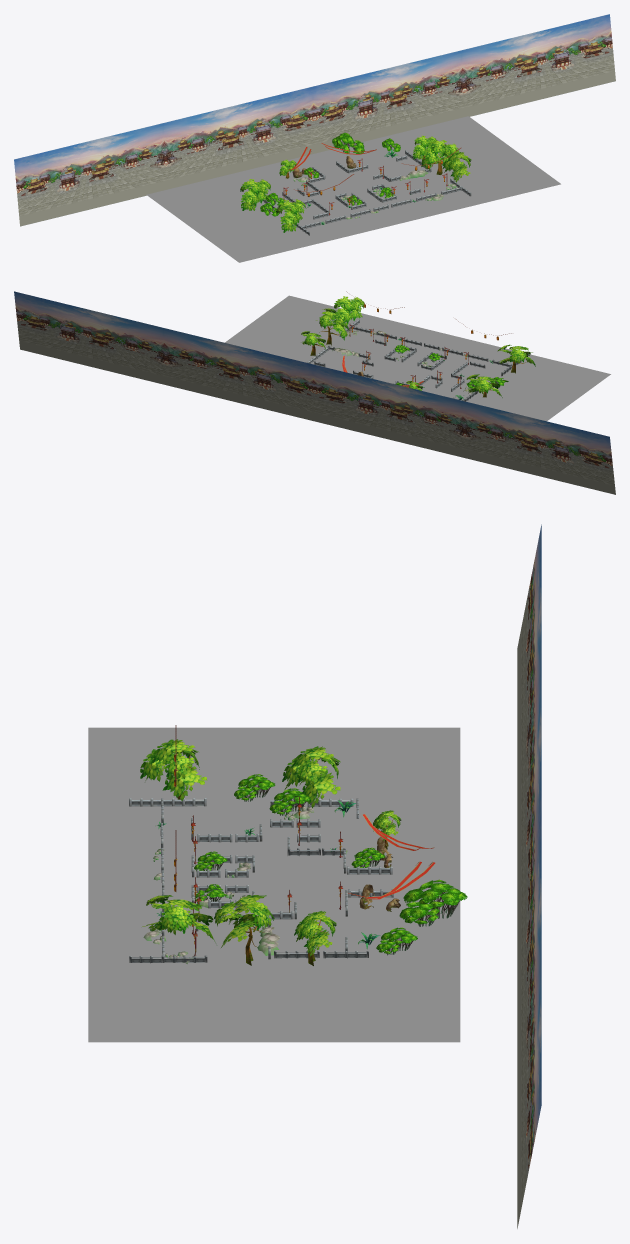
Rendered from 3k_map_zws.FBX.
The picture shows the model from 3 angles, top to bottom: view 1: azimuth 30°, elevation 25°; view 2: azimuth 150°, elevation 25°; view 3: azimuth 270°, elevation 25°; orthographic projection. The views are drawn at different scales.
Visible parts, largest first — view 1: 3k_map_bj, 3k_map_dm, 3k_map_tree00, 3k_map_wl, 3k_map_tw, 3k_map_tree01; view 2: 3k_map_bj, 3k_map_dm, 3k_map_tree00, 3k_map_wl, 3k_map_tw, 3k_map_tree01; view 3: 3k_map_dm, 3k_map_bj, 3k_map_tree00, 3k_map_wl, 3k_map_tree01, 3k_map_tw.
Boxes of the visible parts, x1,y1,x2,y2 form: 3k_map_bj: [14, 14, 615, 226]; 3k_map_dm: [146, 116, 560, 262]; 3k_map_tree00: [240, 135, 471, 232]; 3k_map_wl: [256, 150, 471, 235]; 3k_map_tw: [252, 147, 461, 227]; 3k_map_tree01: [260, 132, 400, 216]; 3k_map_bj: [14, 291, 615, 494]; 3k_map_dm: [225, 295, 610, 421]; 3k_map_tree00: [301, 296, 535, 397]; 3k_map_wl: [307, 319, 521, 401]; 3k_map_tw: [303, 291, 525, 397]; 3k_map_tree01: [394, 344, 508, 388]; 3k_map_dm: [88, 727, 460, 1042]; 3k_map_bj: [517, 524, 541, 1228]; 3k_map_tree00: [140, 739, 401, 956]; 3k_map_wl: [129, 798, 393, 963]; 3k_map_tree01: [194, 774, 467, 955]; 3k_map_tw: [143, 725, 400, 965].
Bounding box in the file's own units: 47328 × 4757 × 15597.
